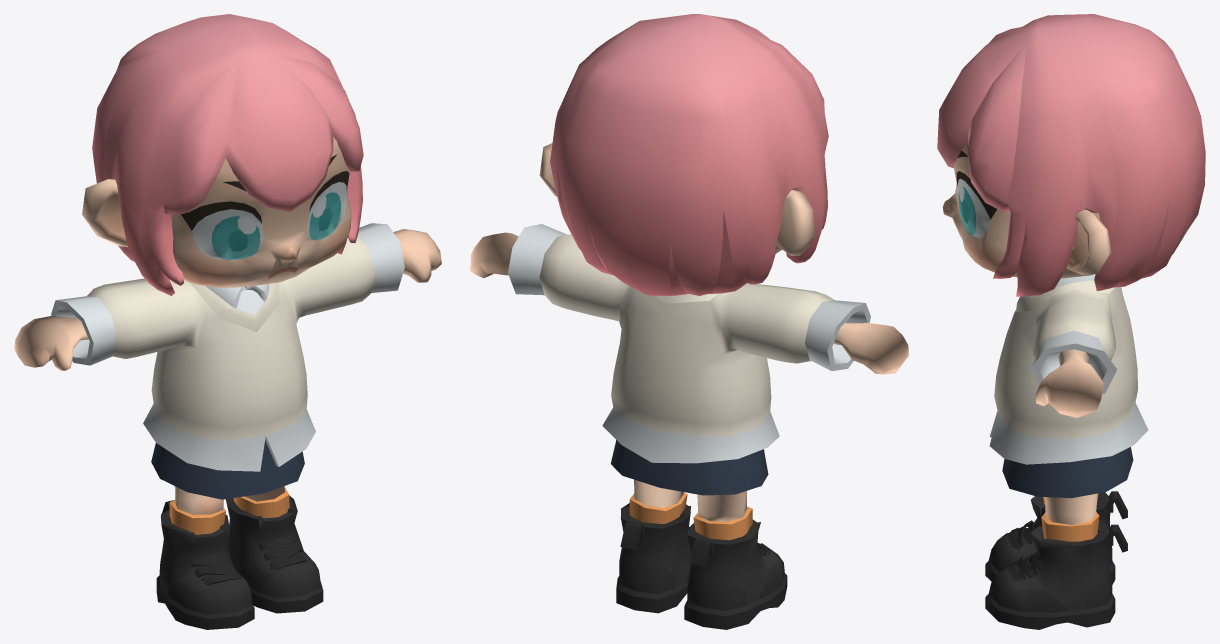
The model's file is Rose.fbx.
3 renders of one model, left to right at view 1: azimuth 30°, elevation 25°; view 2: azimuth 150°, elevation 25°; view 3: azimuth 270°, elevation 25°, orthographic. The views are drawn at different scales.
Parts seen in each view (by area): view 1: Hair_6.001, Top_44, Shoes_16.001, Face_B2, Body_ArmA_1.008, Bottom_43, Body_LegB_2.007; view 2: Hair_6.001, Top_44, Shoes_16.001, Bottom_43, Body_ArmA_1.008, Face_B2, Body_LegB_2.007; view 3: Hair_6.001, Top_44, Shoes_16.001, Face_B2, Bottom_43, Body_ArmA_1.008, Body_LegB_2.007.
Boxes of the visible parts, x1,y1,x2,y2 form: Hair_6.001: (92,14,363,295); Top_44: (51,223,404,471); Shoes_16.001: (156,487,323,629); Face_B2: (82,136,351,287); Body_ArmA_1.008: (14,229,441,370); Bottom_43: (151,440,304,499); Body_LegB_2.007: (174,486,284,514); Hair_6.001: (550,14,828,296); Top_44: (508,224,870,463); Shoes_16.001: (616,492,787,629); Bottom_43: (610,440,768,495); Body_ArmA_1.008: (470,232,908,374); Face_B2: (539,143,815,255); Body_LegB_2.007: (634,479,746,521); Hair_6.001: (937,14,1205,296); Top_44: (989,274,1148,464); Shoes_16.001: (985,491,1127,629); Face_B2: (942,140,1111,278); Bottom_43: (1002,447,1133,498); Body_ArmA_1.008: (1035,349,1103,417); Body_LegB_2.007: (1044,493,1097,525).
Bounding box in the file's own units: 131 × 168 × 71.83.
